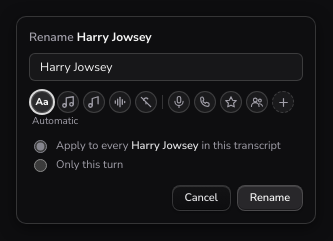
Scenario: the icon row › names an icon on keyboard focus too
Focus the button titled "Lyrics" at {"x": 94, "y": 102}, box left=83, top=91, right=105, bottom=113
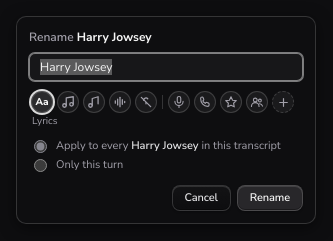
Expected: the text with class "cp-tx-rename-iconhint" reads "Lyrics", left=32, top=114, right=58, bottom=128
